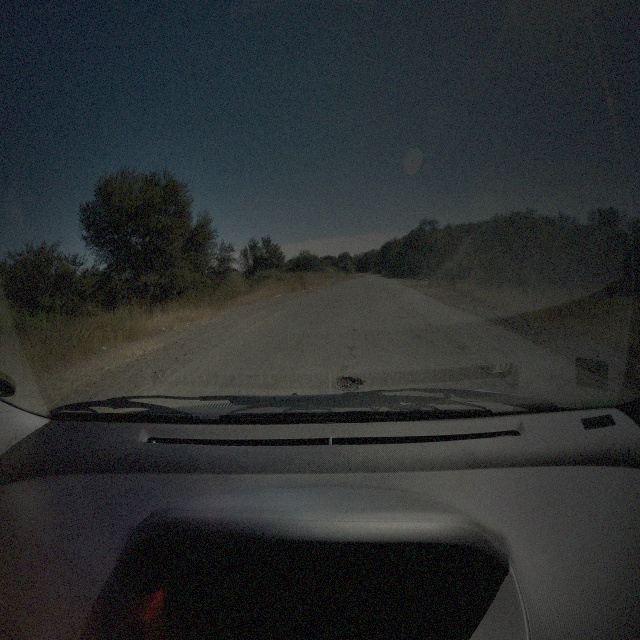pothole: (337, 372, 365, 395)
